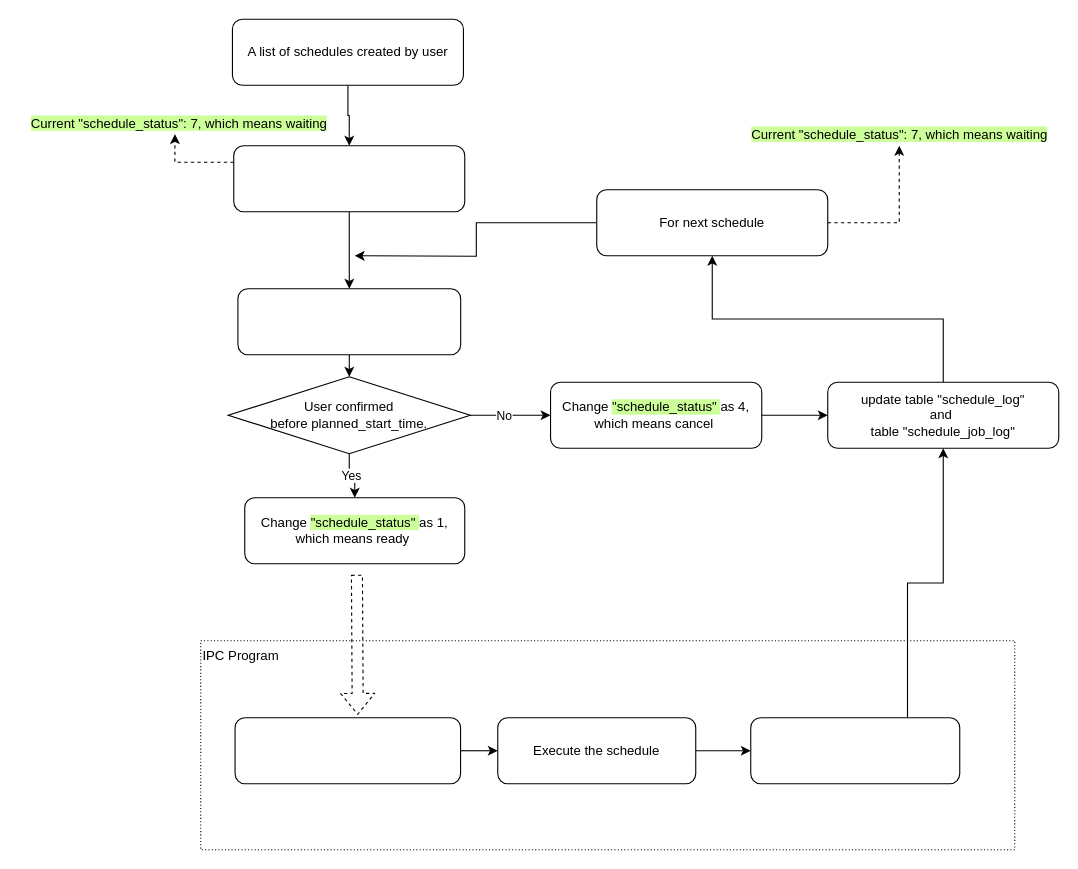
Image size: 1078x869. Some labels were removed from this diagram. Each missing label, with the centre of its shape:
Done. Change "schedule_status" as 3, which means finished: (x=855, y=750)
For each schedule: (x=349, y=178)
Notify the user must comfirm Ugv Init Pos before planned_start_time.: (x=349, y=321)
Wait for new schedules with "schedule_status" == 1: (x=347, y=750)
